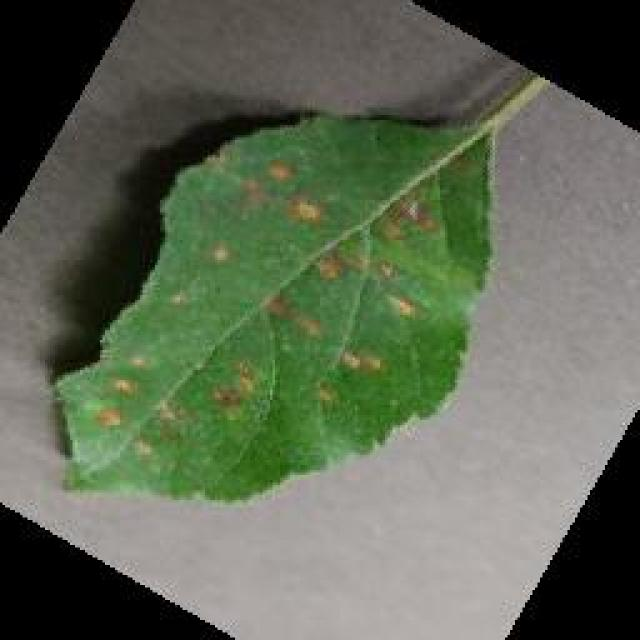apple rust disease: (48, 105, 500, 505)
